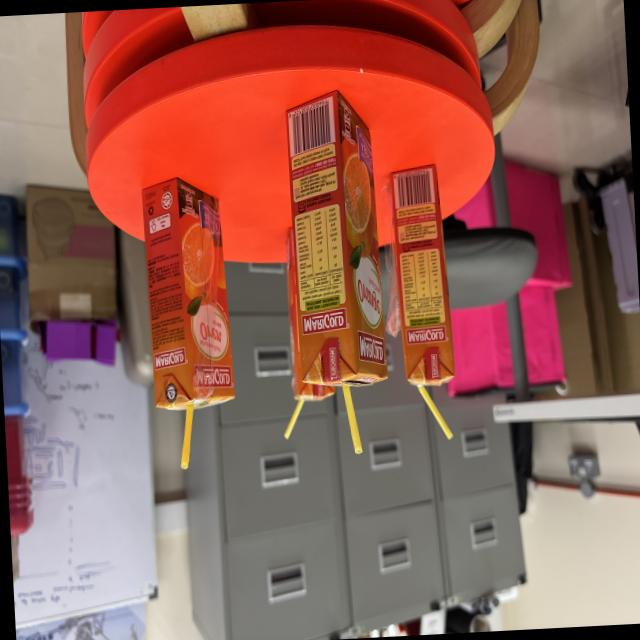drink_carton: (275, 82, 397, 462), (136, 167, 242, 483), (380, 150, 468, 449), (266, 218, 344, 448)
